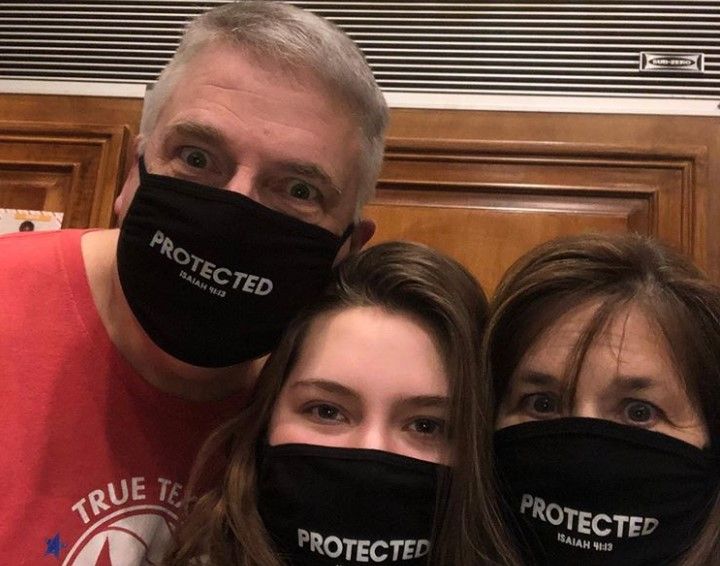face_with_mask: (111, 3, 393, 374), (479, 235, 716, 564), (250, 244, 471, 564)
